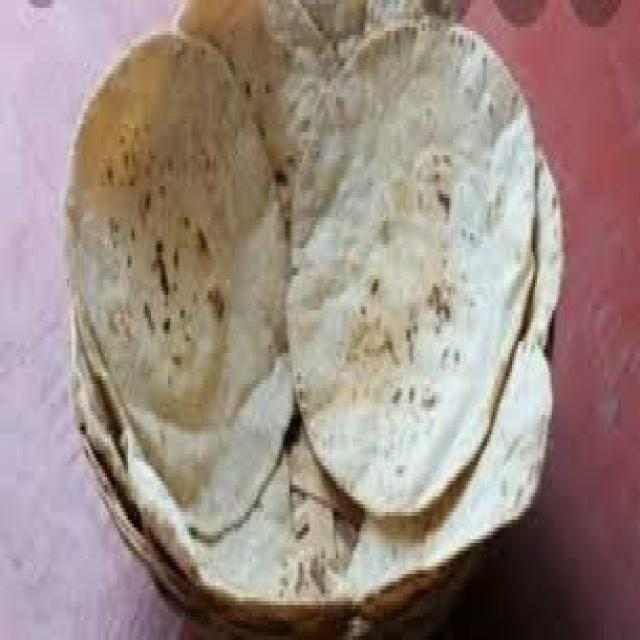RICE BHAKRI: (285, 19, 535, 512), (67, 31, 294, 535), (178, 0, 327, 178)
